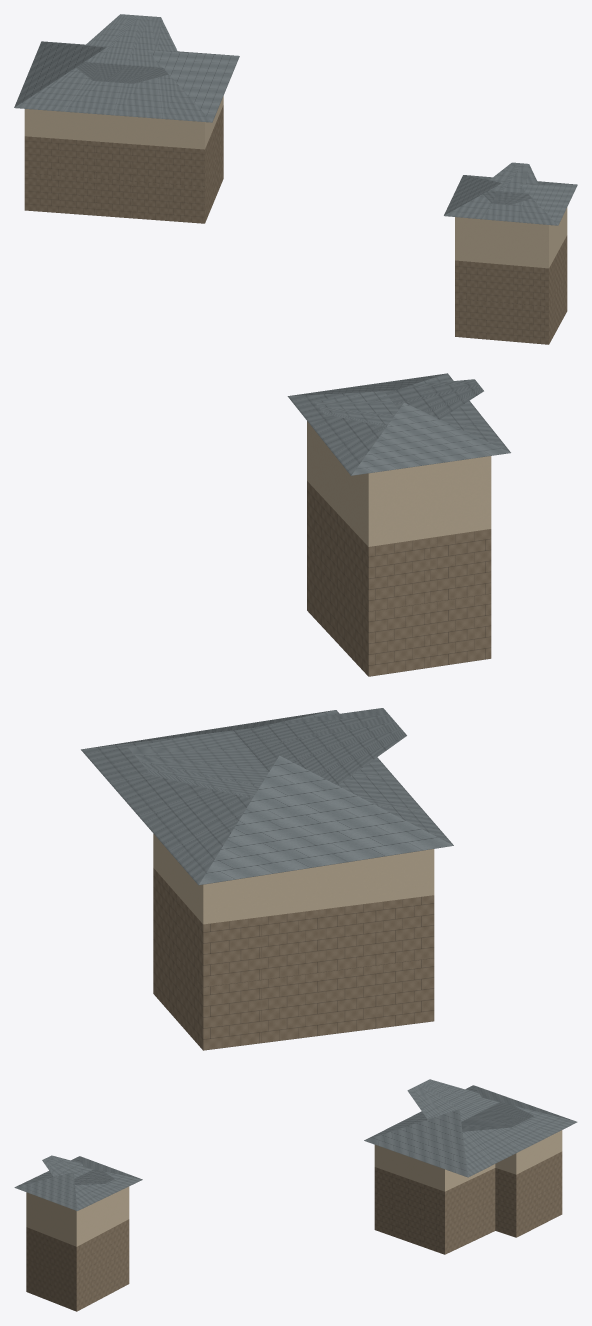
The model's file is bld_c9_41_503.gltf.
3 renders of one model, top to bottom at view 1: azimuth 30°, elevation 25°; view 2: azimuth 150°, elevation 25°; view 3: azimuth 270°, elevation 25°, orthographic. The views are drawn at different scales.
Visible parts, largest first — view 1: bld_c9_41_503; view 2: bld_c9_41_503; view 3: bld_c9_41_503.
Part boxes in pixels (<box>): bld_c9_41_503: <box>14,14,577,344</box>; bld_c9_41_503: <box>81,373,510,1050</box>; bld_c9_41_503: <box>14,1079,577,1311</box>.
Size of the model in its own units: 21 by 8.7 by 36.45.
3 materials, 3 textured.
